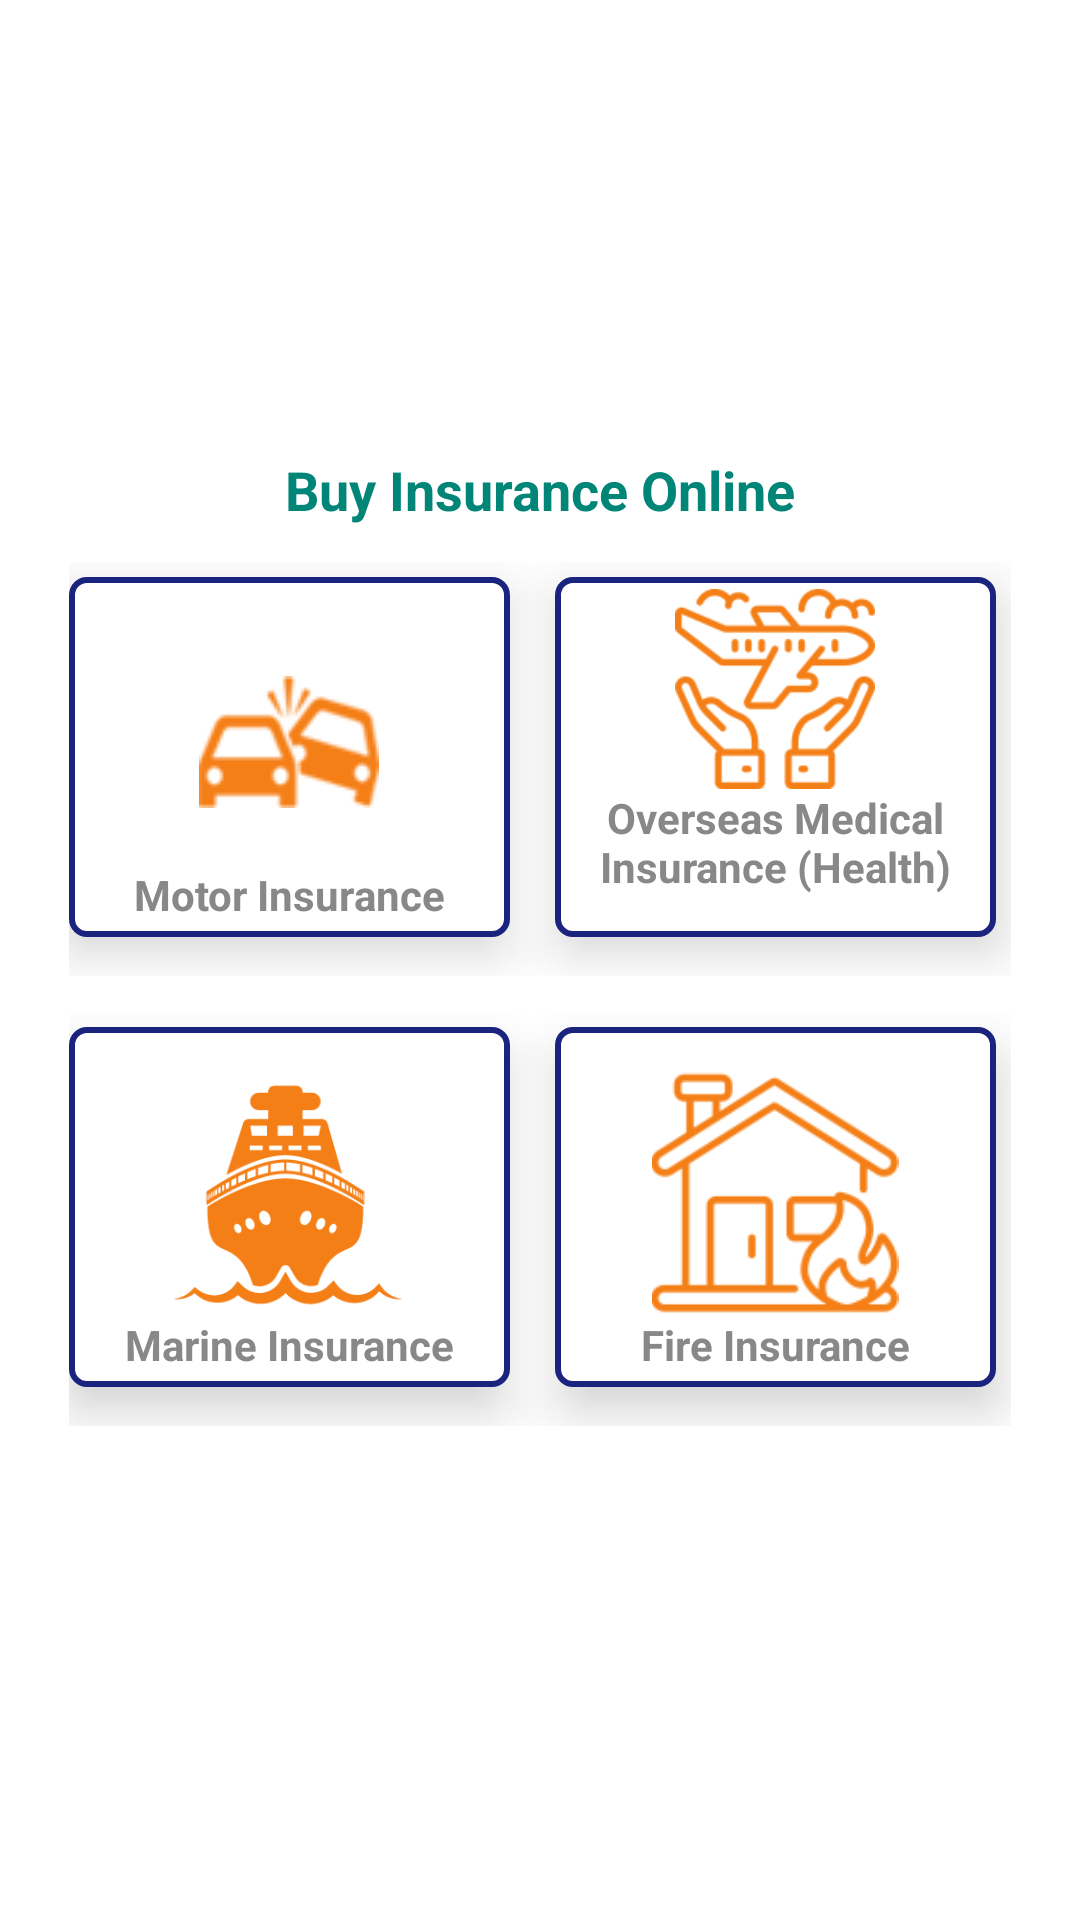

Icons on this 1080 x 1920 Android screen, each with its box as bbox=(x1, y1, x2, y2):
travel insurance: bbox=(675, 589, 875, 789)
